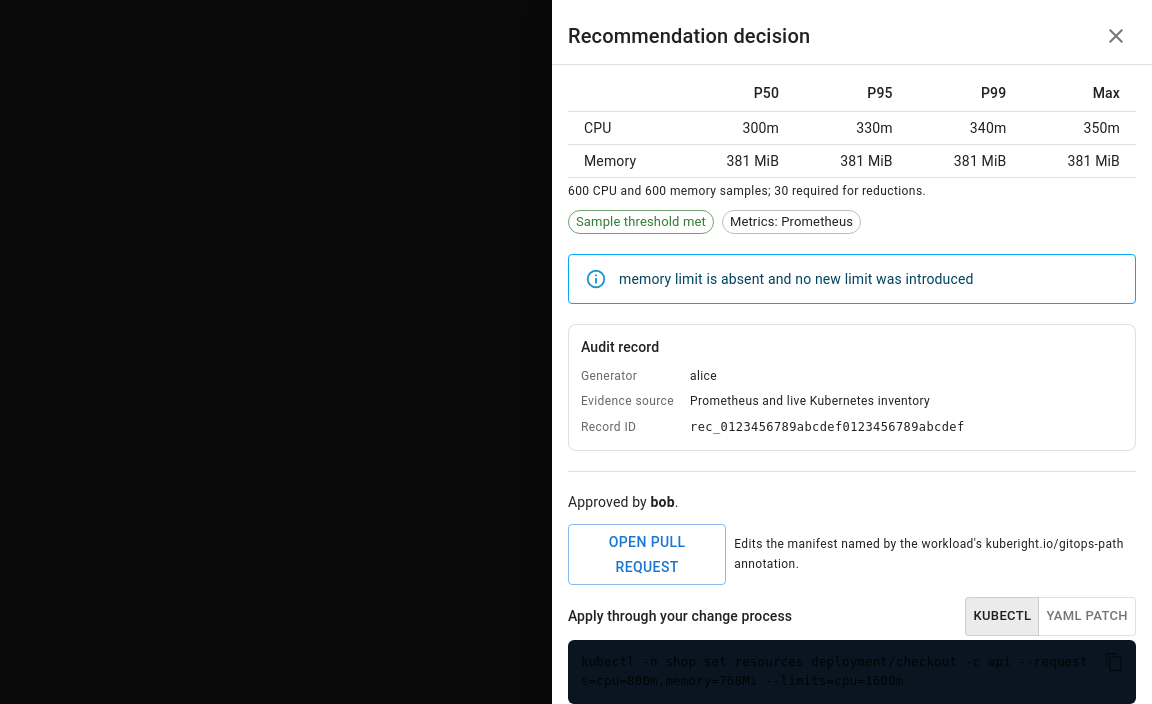
it: RecommendationDrawer › explains why a pull request cannot be opened
(page scrolled)
Click the button "Open pull request".
click(647, 555)  # box [568, 524, 726, 585]
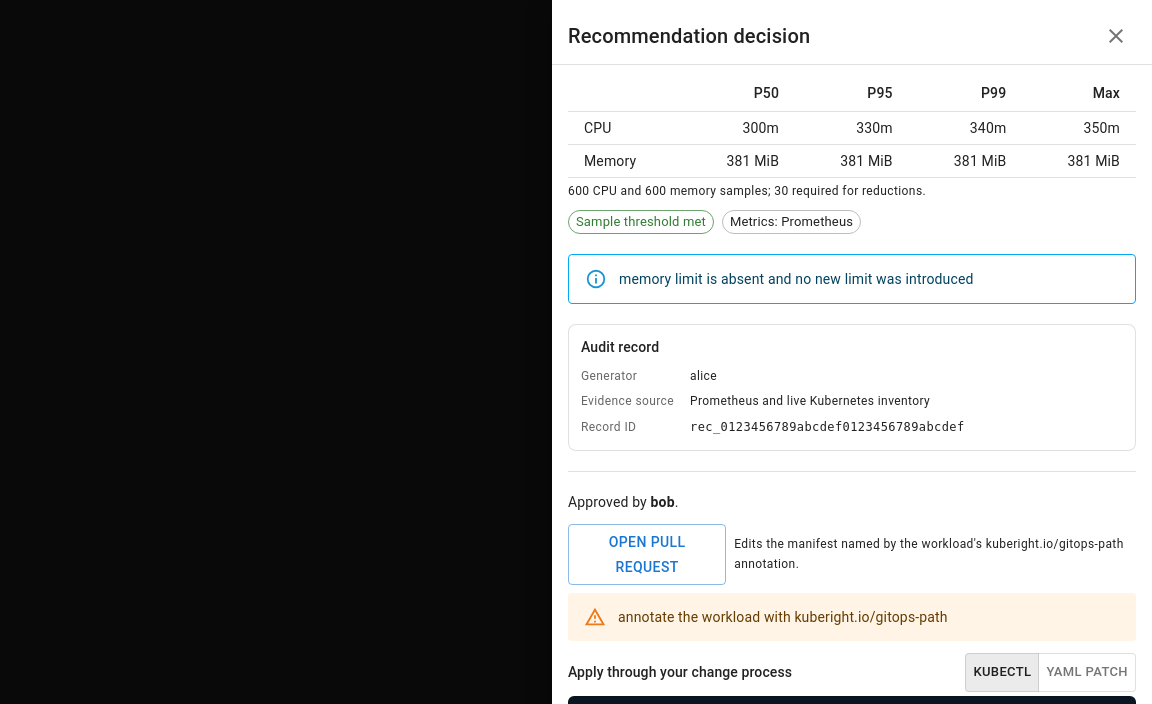
Result: the text "annotate the workload with kuberight.io/gitops-path" is shown at [618, 609, 948, 625]
